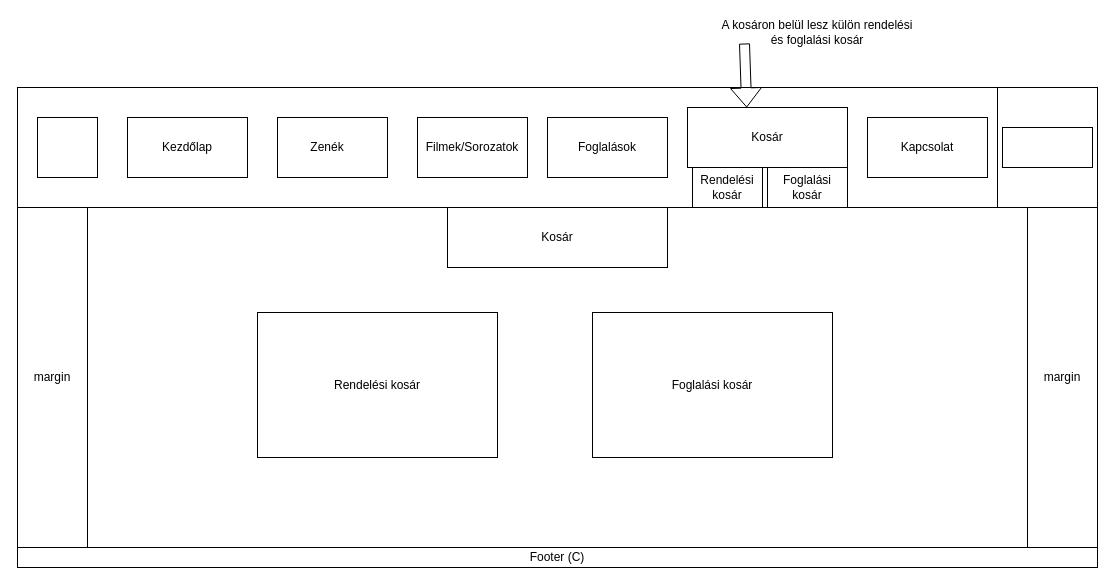
Some shapes in this 1115 by 585 pixel diagram are drawn without their labels. Each missing label, with the centre of its shape:
"Fiók bej/reg" goes at point (1047, 147).
"Logo" goes at point (67, 147).
